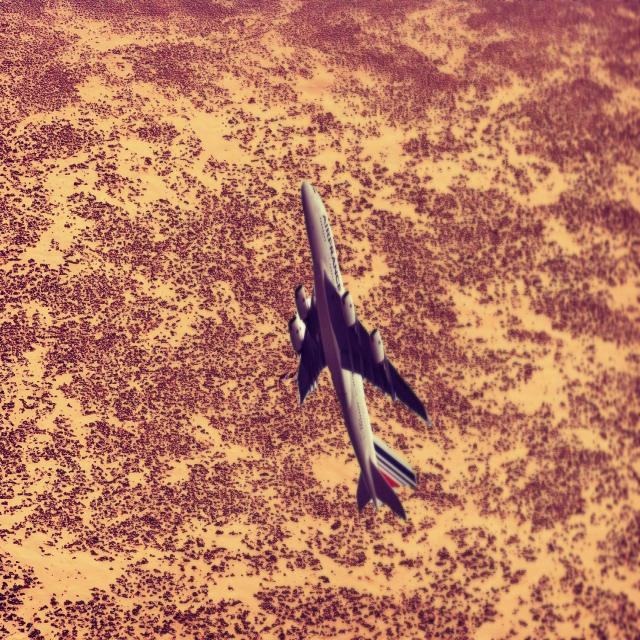airplane: (288, 178, 432, 521)
